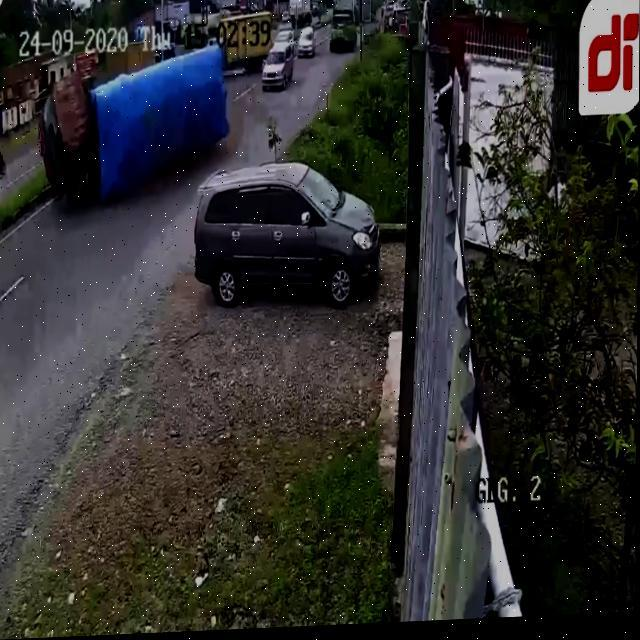multiple_accident: (30, 13, 395, 328)
